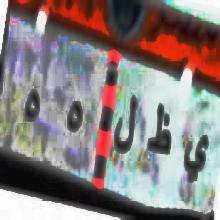5: (66, 92, 84, 138), (24, 88, 44, 128)
Thaa: (146, 100, 174, 162)
laam: (113, 90, 140, 161)
yaa: (182, 125, 210, 185)
